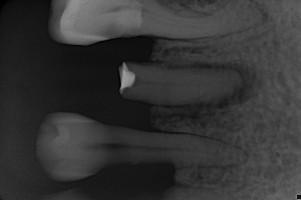Furcation Involvement: (190, 61, 261, 109)
